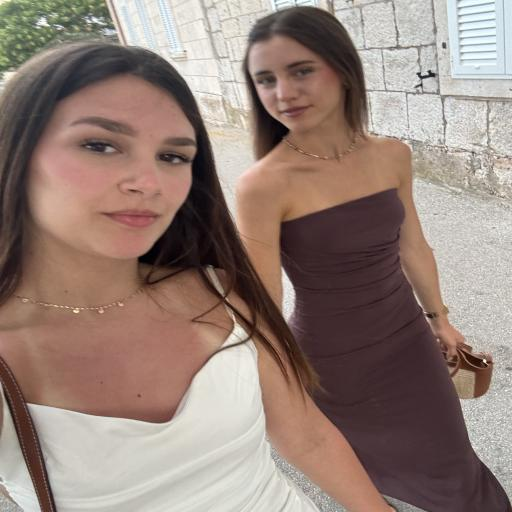masa: (241, 41, 343, 134)
